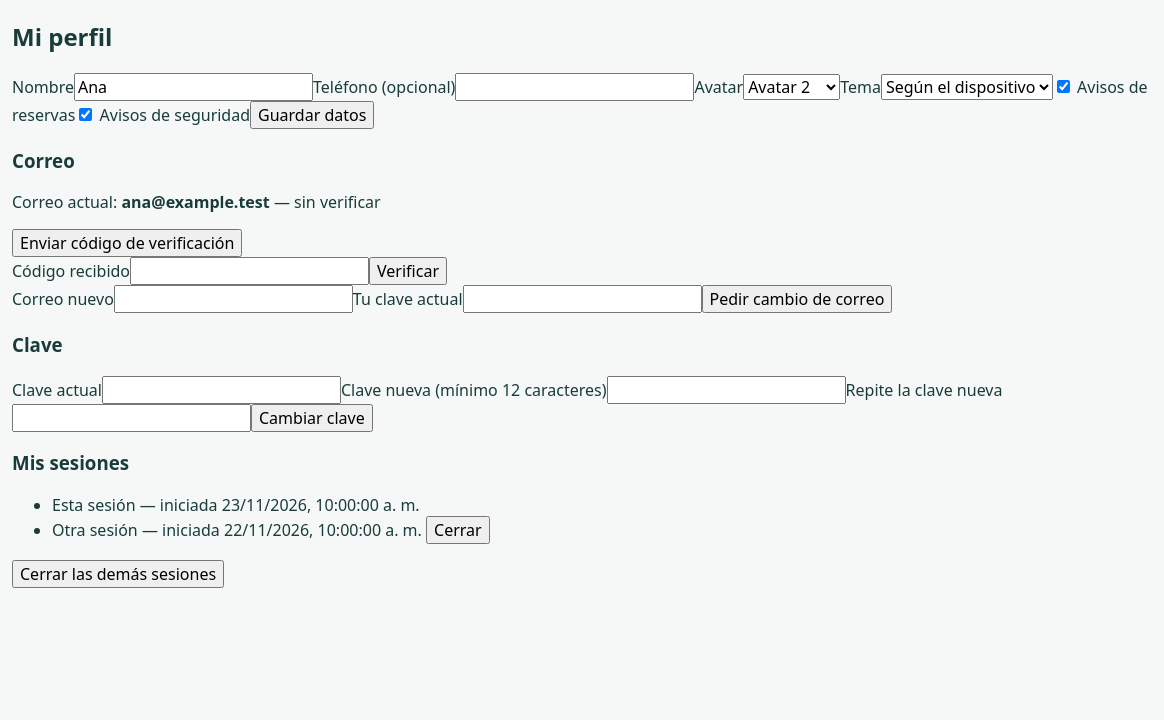
Test: F01.1 US5: pantalla «Mi perfil» › lista las sesiones propias y permite cerrar una o las demás, sin botón para la actual
Expected: the number of list items is 2, [52,494,420,516]; [52,516,490,544]
Click the button "Cerrar": x=458, y=530 [426,516,490,544]
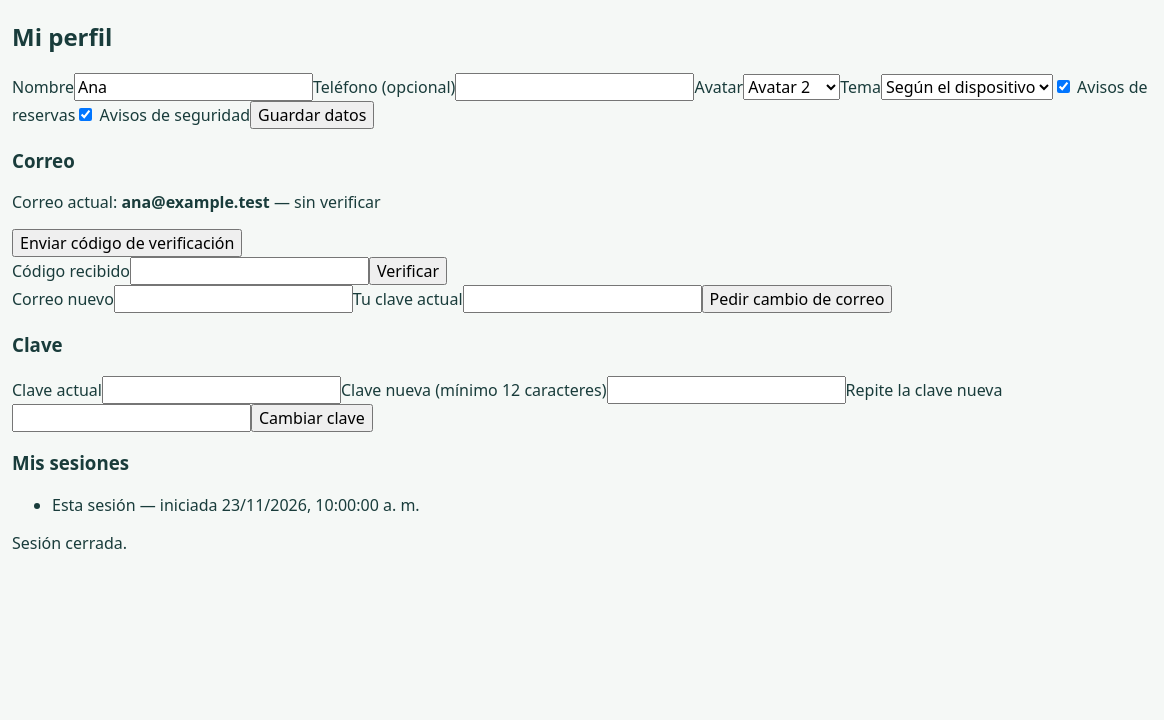
Result: the button "Cerrar las demás sesiones" is gone
